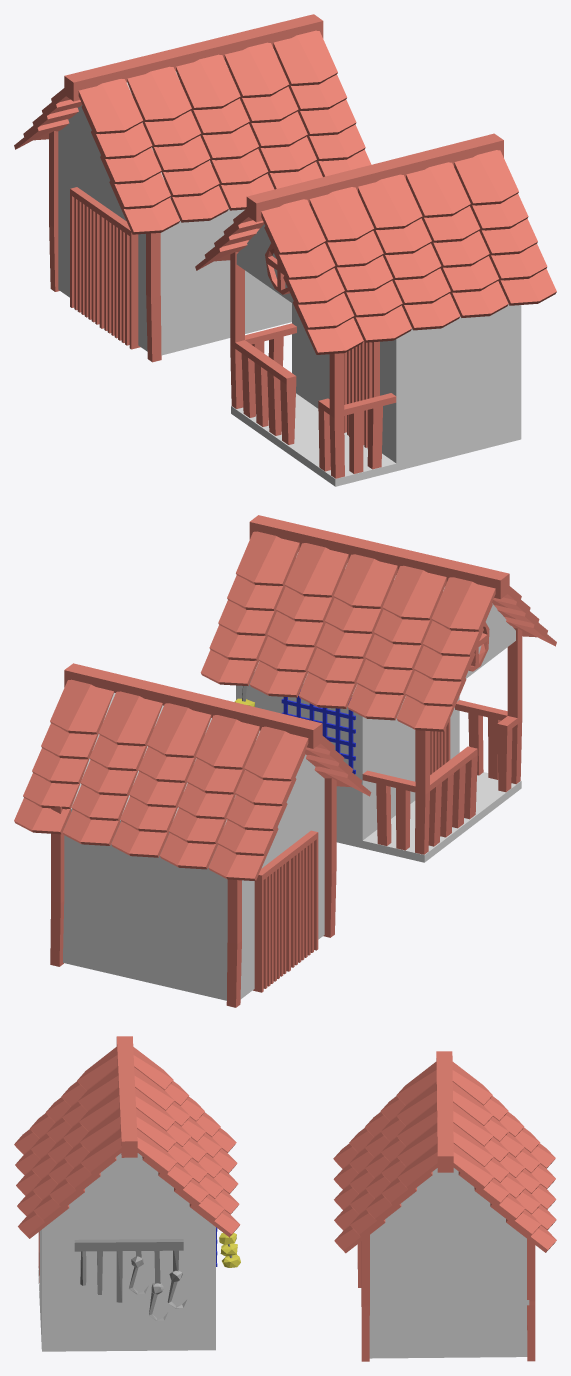
The model's file is house.fbx.
3 views of the same model, one above another, from view 1: azimuth 30°, elevation 25°; view 2: azimuth 150°, elevation 25°; view 3: azimuth 270°, elevation 25° (orthographic). The views are drawn at different scales.
Visible parts, largest first — view 1: roop.001, roop, BODY.001, 큐브.003, 큐브.002, DOOR].002, 큐브.001, DOOR].001, WINDOW.001; view 2: roop.001, roop, 큐브.003, 큐브.002, BODY.001, DOOR].002, 큐브.001, 큐브.004, WEAP.001, DOOR].001; view 3: BODY.001, 큐브.003, roop, roop.001, 실린더.001, 큐브.004, 구체.002, CHEESE.001.
Boxes of the visible parts, left/top/right/bottom form: roop.001: left=195, top=133, right=556, bottom=354; roop: left=14, top=14, right=371, bottom=234; BODY.001: left=231, top=224, right=521, bottom=486; 큐브.003: left=58, top=62, right=319, bottom=355; 큐브.002: left=230, top=252, right=396, bottom=478; DOOR].002: left=70, top=187, right=140, bottom=349; 큐브.001: left=49, top=131, right=161, bottom=362; DOOR].001: left=344, top=341, right=379, bottom=448; WINDOW.001: left=265, top=243, right=289, bottom=294; roop.001: left=200, top=515, right=556, bottom=731; roop: left=14, top=663, right=371, bottom=881; 큐브.003: left=63, top=693, right=324, bottom=1000; 큐브.002: left=362, top=628, right=522, bottom=854; BODY.001: left=236, top=552, right=521, bottom=862; DOOR].002: left=253, top=830, right=318, bottom=992; 큐브.001: left=226, top=778, right=336, bottom=1007; 큐브.004: left=50, top=806, right=64, bottom=966; WEAP.001: left=281, top=690, right=355, bottom=774; DOOR].001: left=415, top=718, right=450, bottom=798; BODY.001: left=38, top=1153, right=215, bottom=1351; 큐브.003: left=369, top=1168, right=529, bottom=1358; roop: left=333, top=1051, right=556, bottom=1253; roop.001: left=14, top=1036, right=240, bottom=1238; 실린더.001: left=74, top=1239, right=232, bottom=1302; 큐브.004: left=361, top=1235, right=535, bottom=1361; 구체.002: left=129, top=1256, right=186, bottom=1320; CHEESE.001: left=219, top=1233, right=240, bottom=1267.
Bounding box in the file's own units: 109 × 111 × 234.
